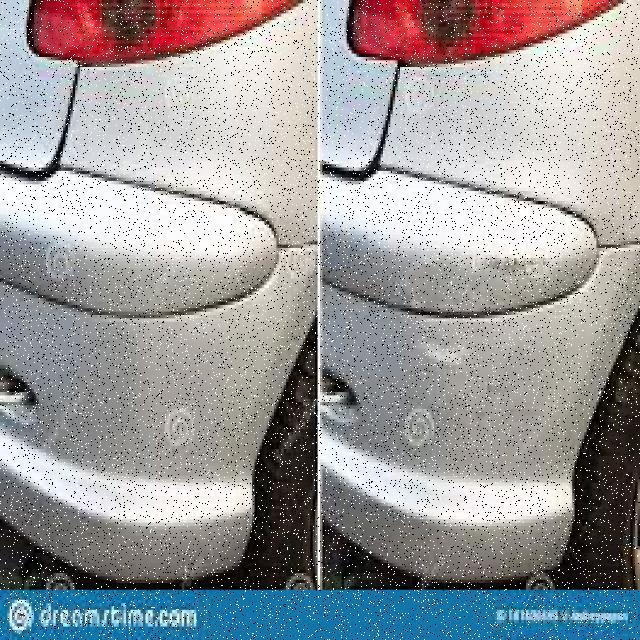rear-bumper-dent: (315, 148, 638, 576)
